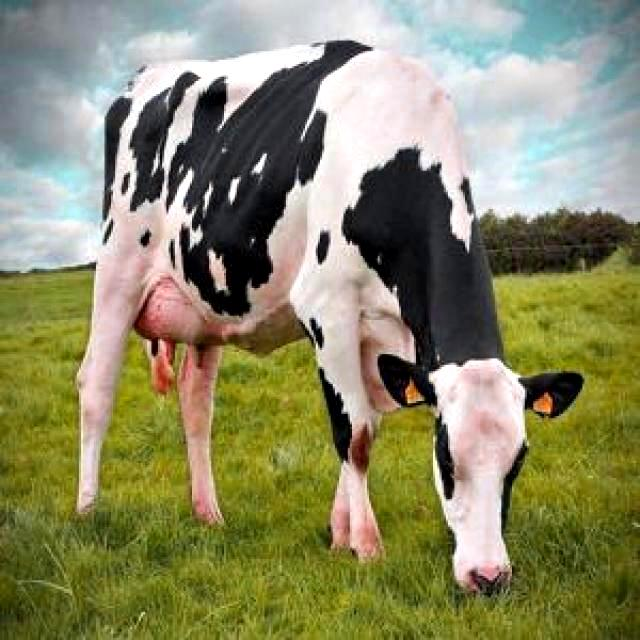COW: (78, 41, 581, 589)
